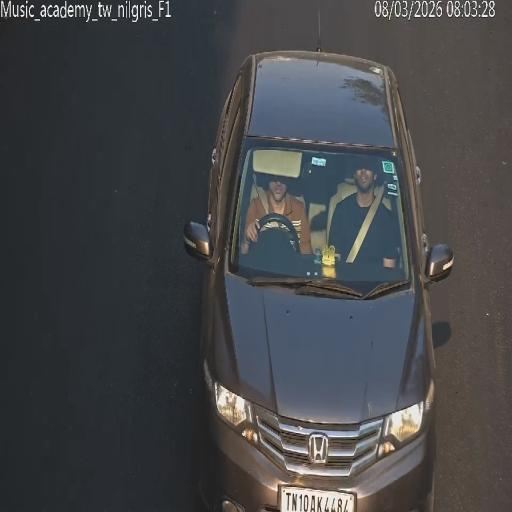person_with_seatbelt: (349, 182, 389, 269), (249, 170, 283, 251)
